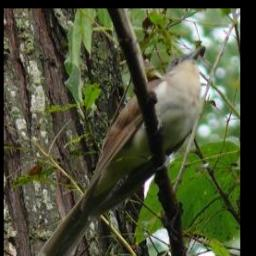Cuckoo: (30, 44, 206, 256)
